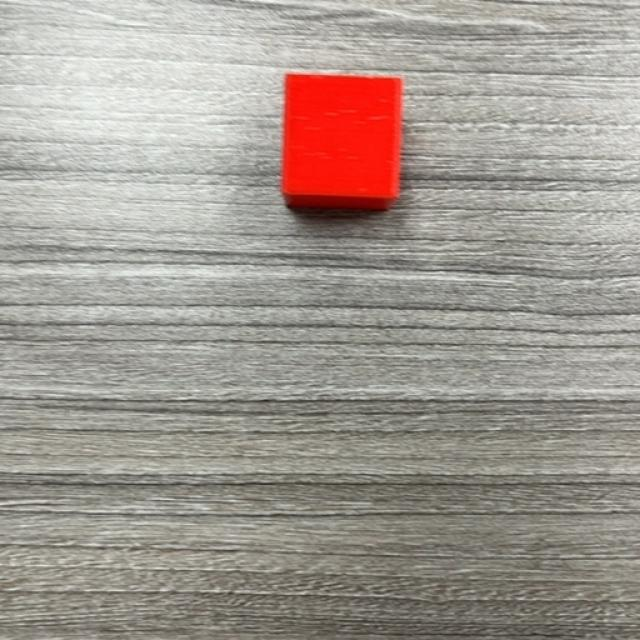Rojo: (280, 72, 404, 212)
